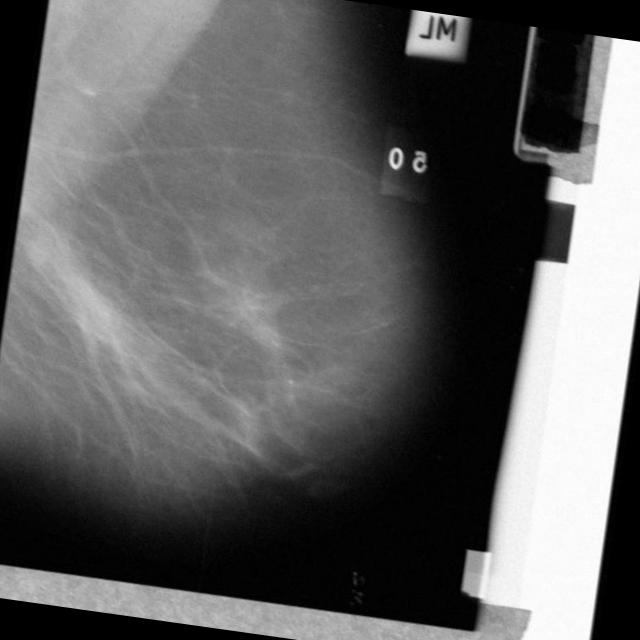MISC: (0, 204, 167, 377)
